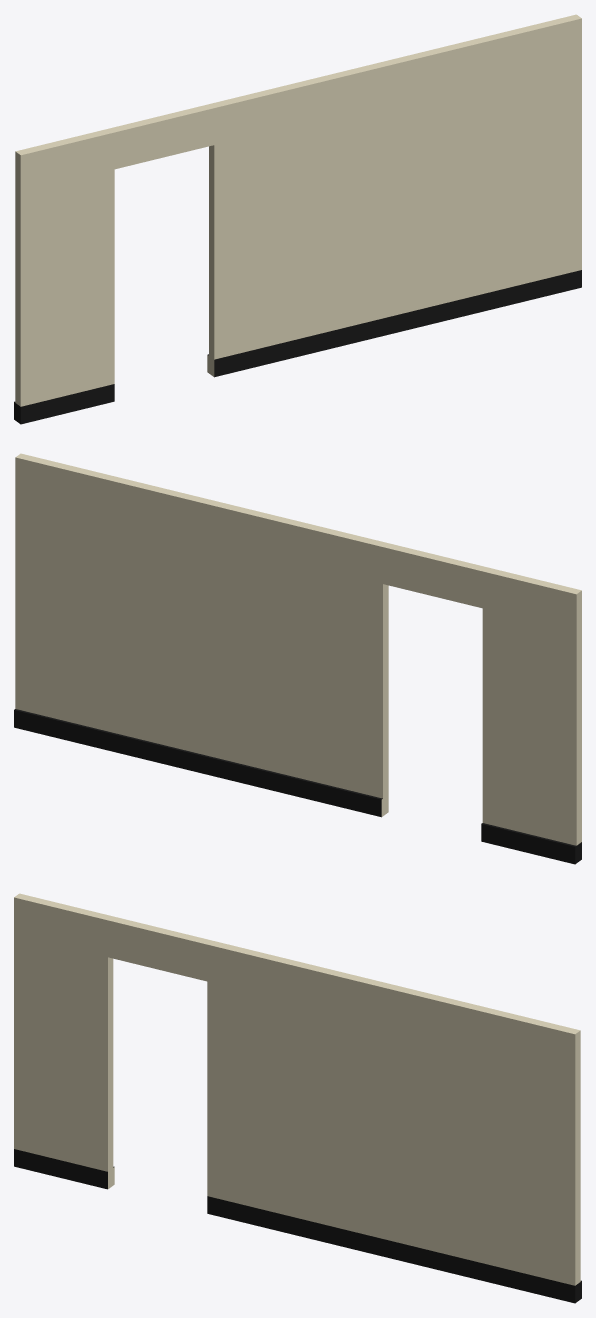
The model's file is Wall 1.FBX.
3 views of the same model, one above another, from view 1: azimuth 30°, elevation 25°; view 2: azimuth 150°, elevation 25°; view 3: azimuth 330°, elevation 25° (orthographic).
Visible parts, largest first — view 1: Wall 1; view 2: Wall 1; view 3: Wall 1.
Part boxes in pixels (x1,y1,x2,y2): Wall 1: (14, 14, 581, 424); Wall 1: (14, 453, 581, 864); Wall 1: (14, 893, 581, 1303).
Bounding box in the file's own units: 532 × 244 × 11.22.
1 material, 1 textured.
